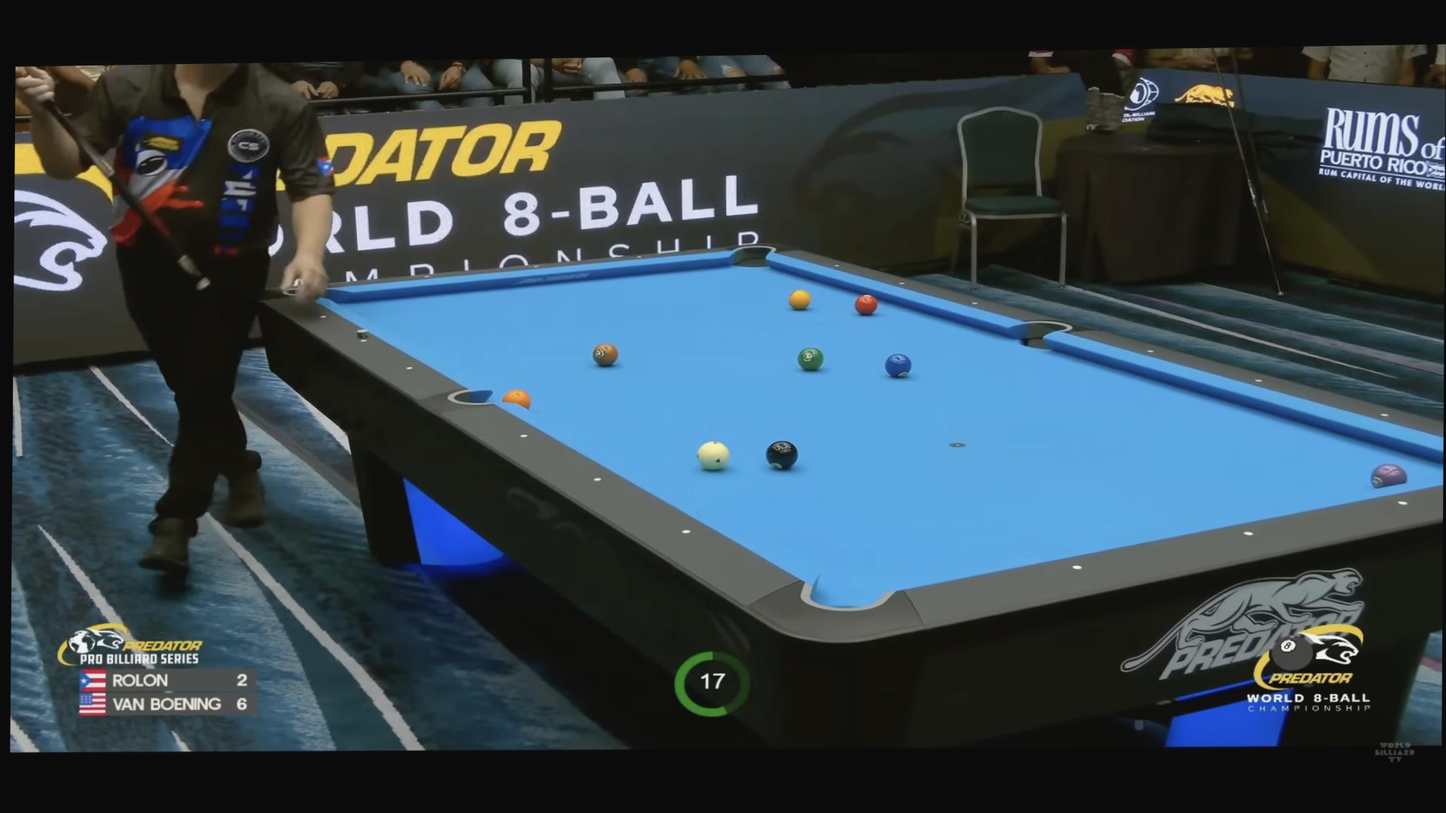Black: (518, 430, 531, 442), (680, 525, 693, 536), (591, 474, 604, 485), (1072, 562, 1083, 573), (1243, 528, 1254, 539), (1397, 498, 1408, 509), (1379, 409, 1390, 420), (406, 365, 414, 372), (971, 300, 979, 307), (898, 280, 906, 287), (833, 262, 841, 269), (360, 337, 367, 344), (1255, 378, 1262, 384), (1147, 348, 1154, 354), (320, 314, 327, 320), (424, 275, 430, 280), (533, 264, 539, 269), (636, 254, 642, 259)
Cue: (1372, 464, 1407, 489), (884, 353, 912, 378), (797, 347, 824, 371), (592, 342, 619, 366), (502, 389, 531, 410), (854, 294, 878, 315), (788, 290, 812, 310)
Solid: (765, 439, 798, 470)
Stripe: (697, 440, 730, 471)
